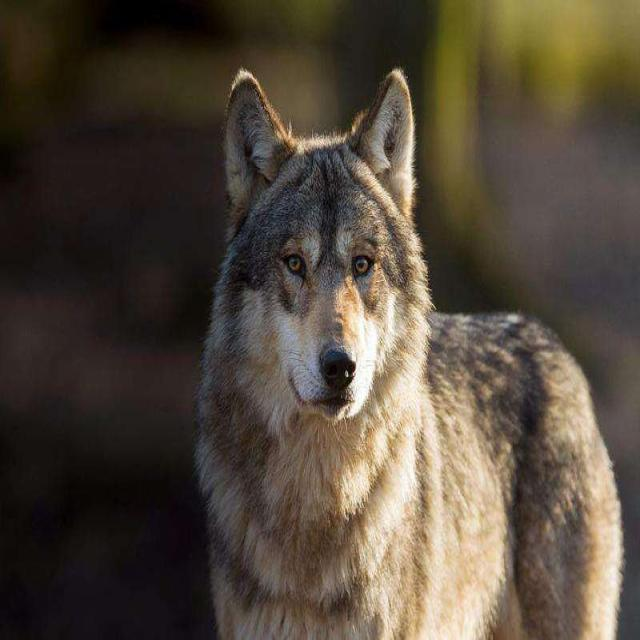Wolf: (193, 63, 625, 638)
